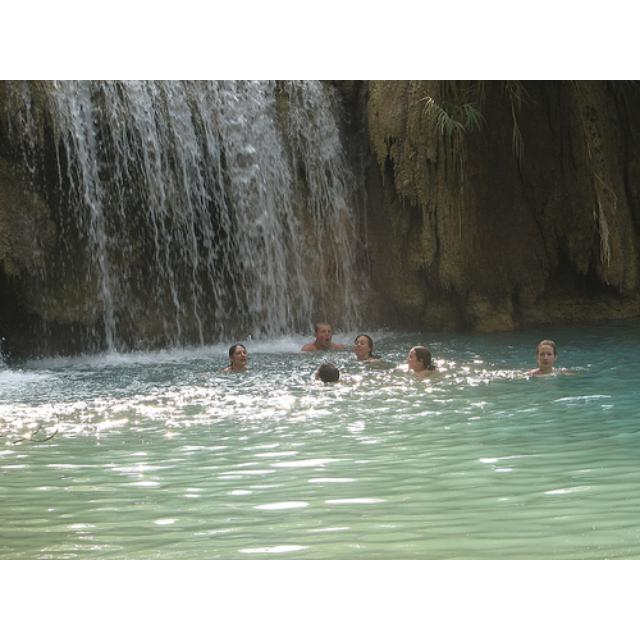human: (529, 339, 561, 379), (306, 321, 345, 349), (405, 343, 437, 376), (349, 333, 381, 365), (223, 338, 253, 371), (312, 360, 340, 384)
